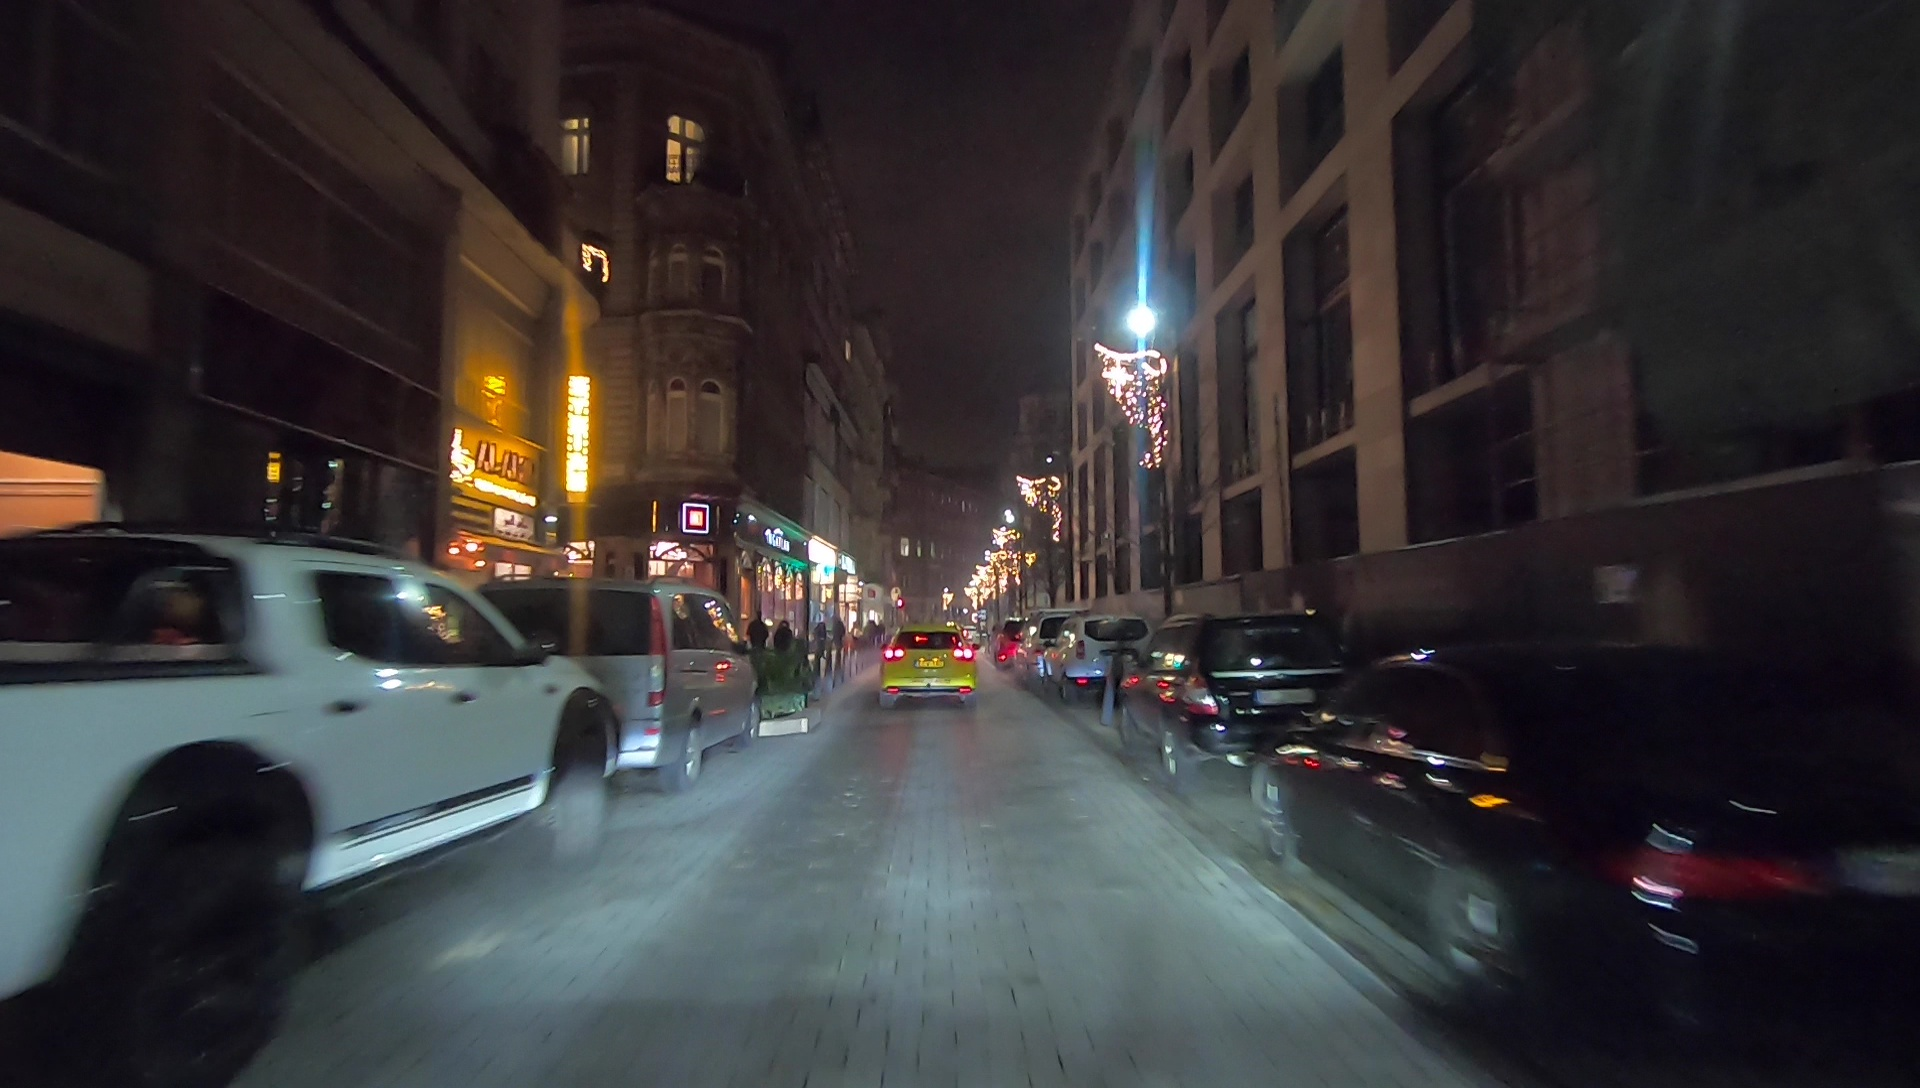person: (747, 612, 768, 682), (773, 615, 792, 685), (812, 618, 827, 676), (831, 615, 845, 670)
